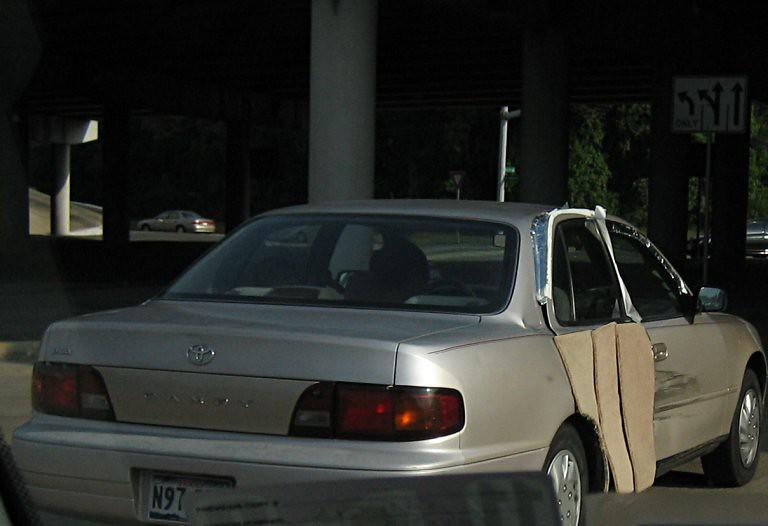doorouter-dent: (641, 281, 731, 472)
